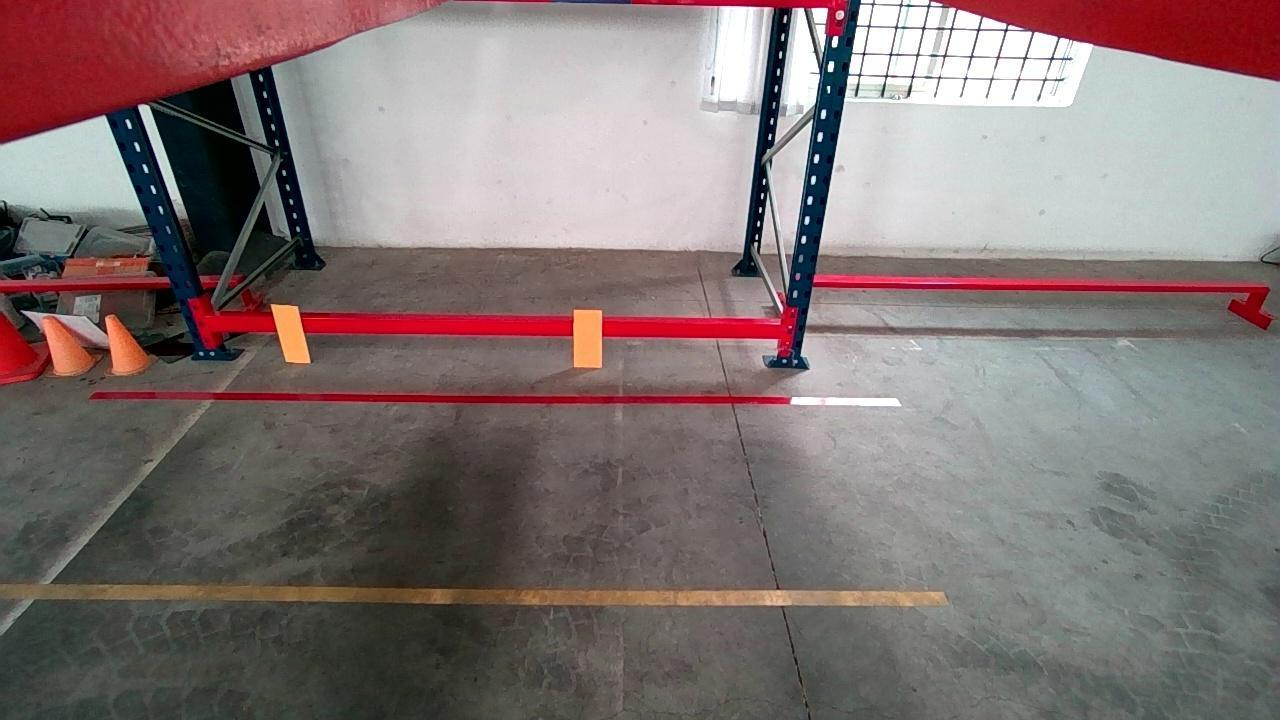h_rack: (210, 316, 784, 338)
orange_strip: (272, 302, 312, 363), (573, 309, 606, 368)
red_line: (91, 389, 902, 405)
